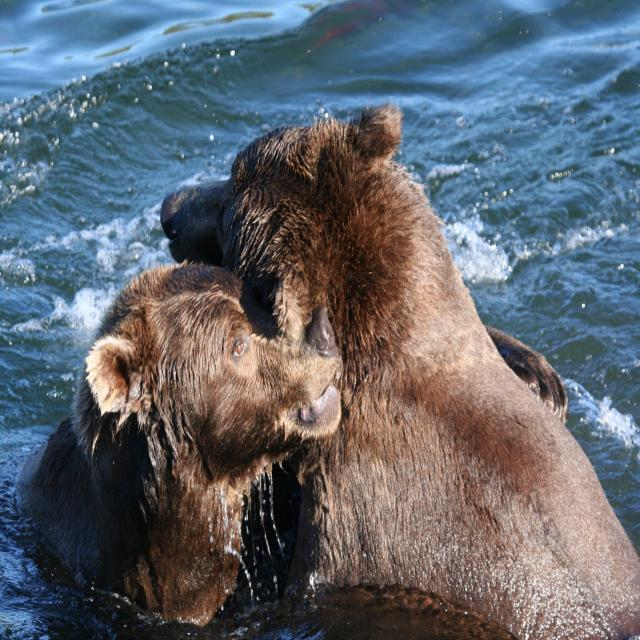bear face: (162, 108, 638, 615), (55, 264, 342, 588)
